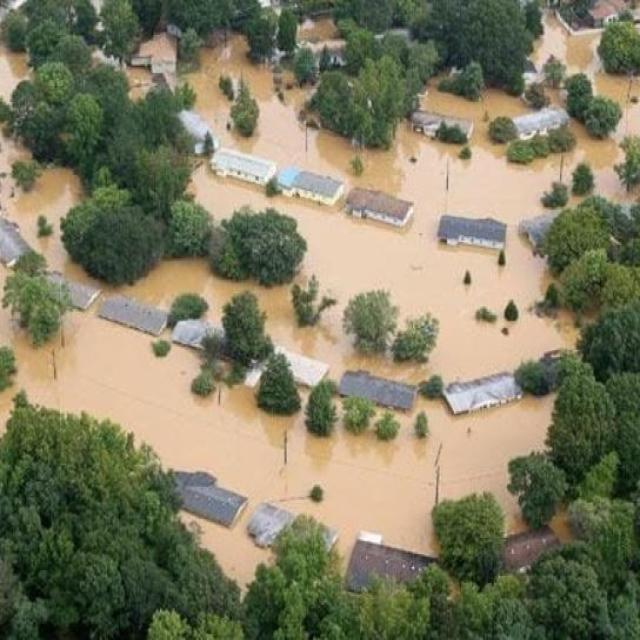flooded_areas: (41, 12, 595, 608)
